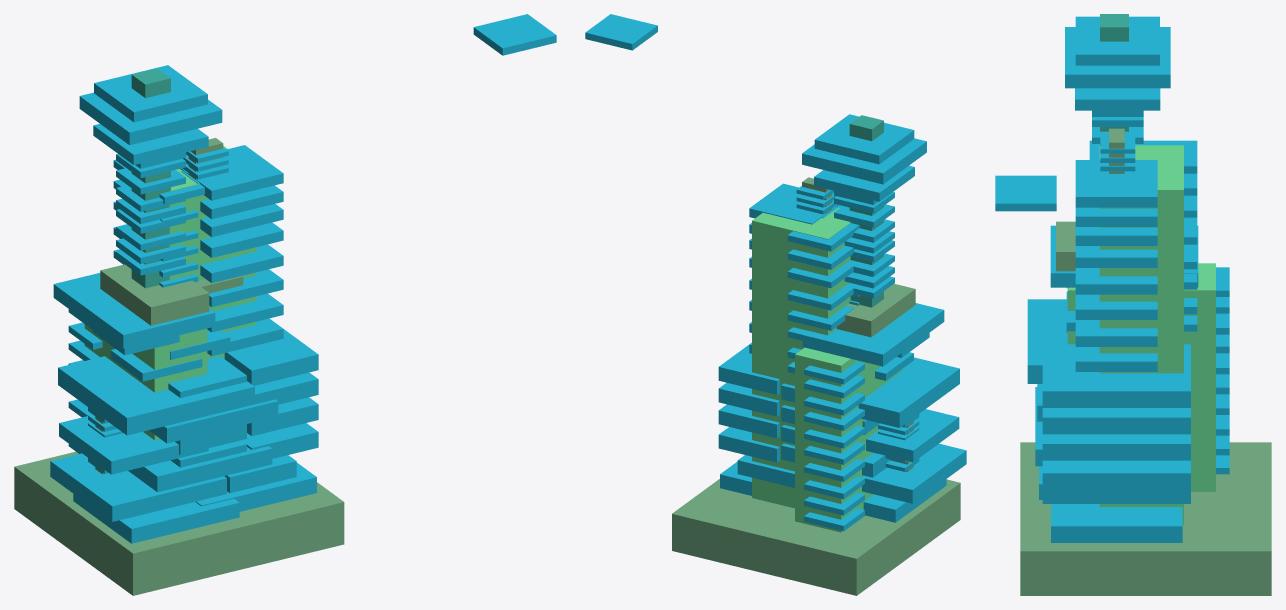
File: building_self_made1.fbx
The picture shows the model from 3 angles, left to right: view 1: azimuth 30°, elevation 25°; view 2: azimuth 150°, elevation 25°; view 3: azimuth 270°, elevation 25°; orthographic projection. The views are drawn at different scales.
Parts seen in each view (by area): view 1: Cube.002, Cube.048; view 2: Cube.002, Cube.048; view 3: Cube.002, Cube.048.
Boxes of the visible parts, bbox=[...] form: Cube.002: bbox=[14, 65, 344, 595]; Cube.048: bbox=[473, 14, 556, 55]; Cube.002: bbox=[672, 114, 966, 595]; Cube.048: bbox=[585, 14, 657, 50]; Cube.002: bbox=[1020, 14, 1271, 595]; Cube.048: bbox=[995, 175, 1056, 211].
Size of the model in its own units: 6263 by 6632 by 3329.
